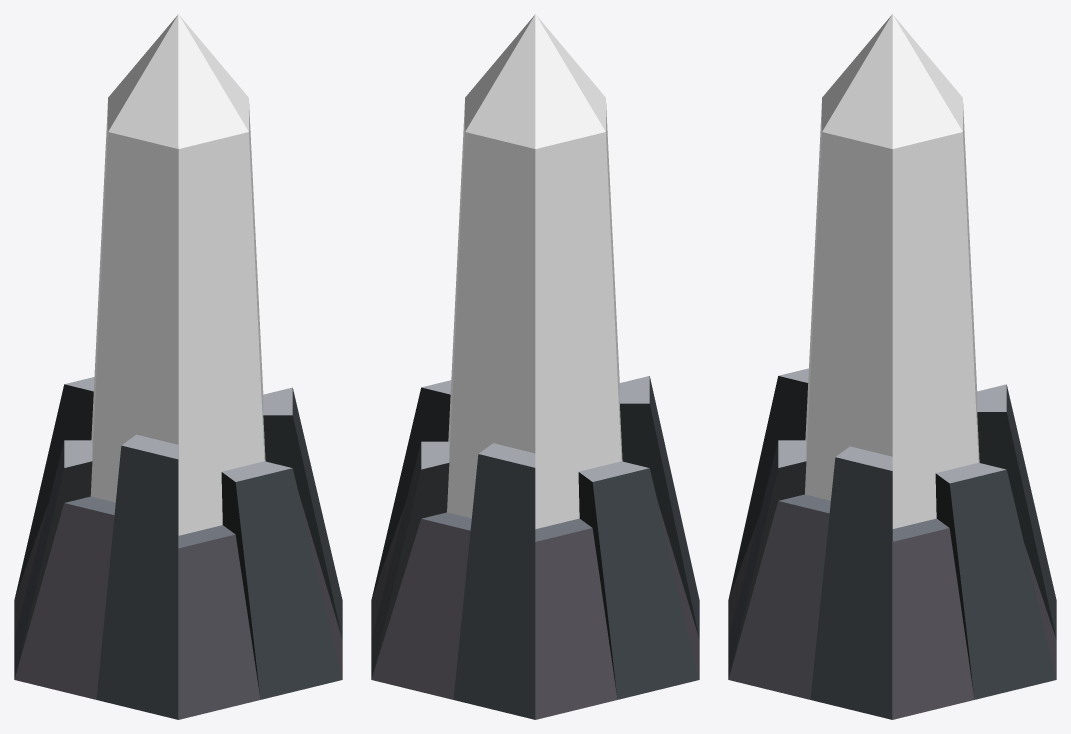
File: TB_Str_Crystal_G.FBX
3 views of the same model, side by side, from view 1: azimuth 30°, elevation 25°; view 2: azimuth 150°, elevation 25°; view 3: azimuth 270°, elevation 25° (orthographic).
Parts seen in each view (by area): view 1: TB_Str_Crystal_G; view 2: TB_Str_Crystal_G; view 3: TB_Str_Crystal_G.
Boxes of the visible parts, x1,y1,x2,y2 form: TB_Str_Crystal_G: [14, 14, 342, 719]; TB_Str_Crystal_G: [371, 14, 699, 719]; TB_Str_Crystal_G: [728, 14, 1056, 719].
Size of the model in its own units: 2.24 by 4.09 by 1.94.
